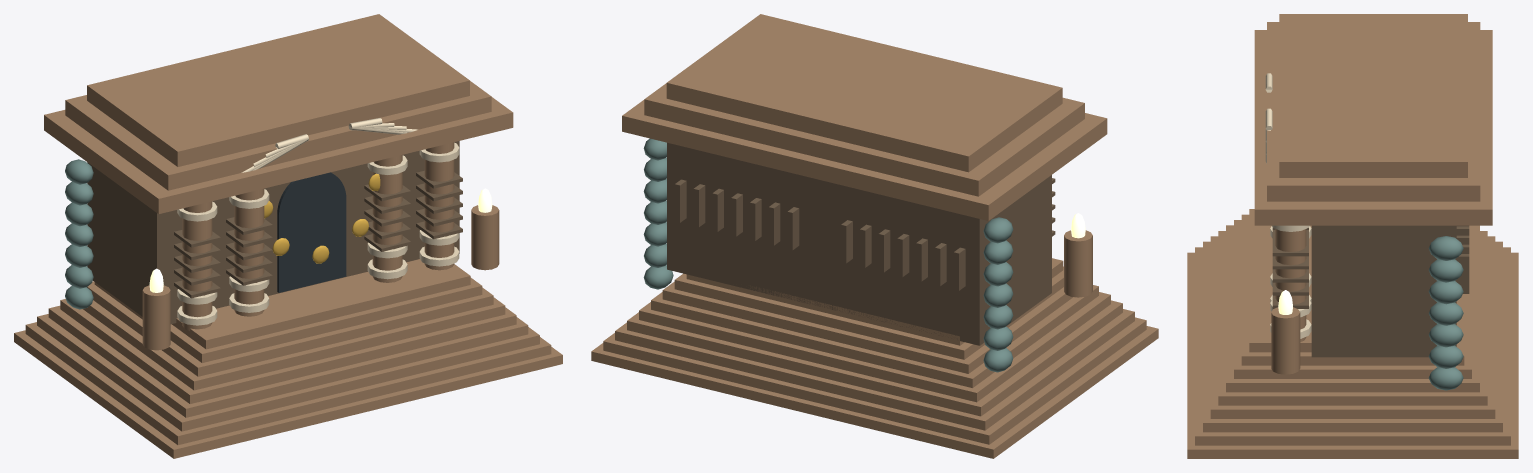
The model's file is temple.glb.
3 renders of one model, left to right at view 1: azimuth 30°, elevation 25°; view 2: azimuth 150°, elevation 25°; view 3: azimuth 270°, elevation 25°, orthographic. The views are drawn at different scales.
Bounding box in the file's own units: 4.5 × 2.9 × 3.2.
